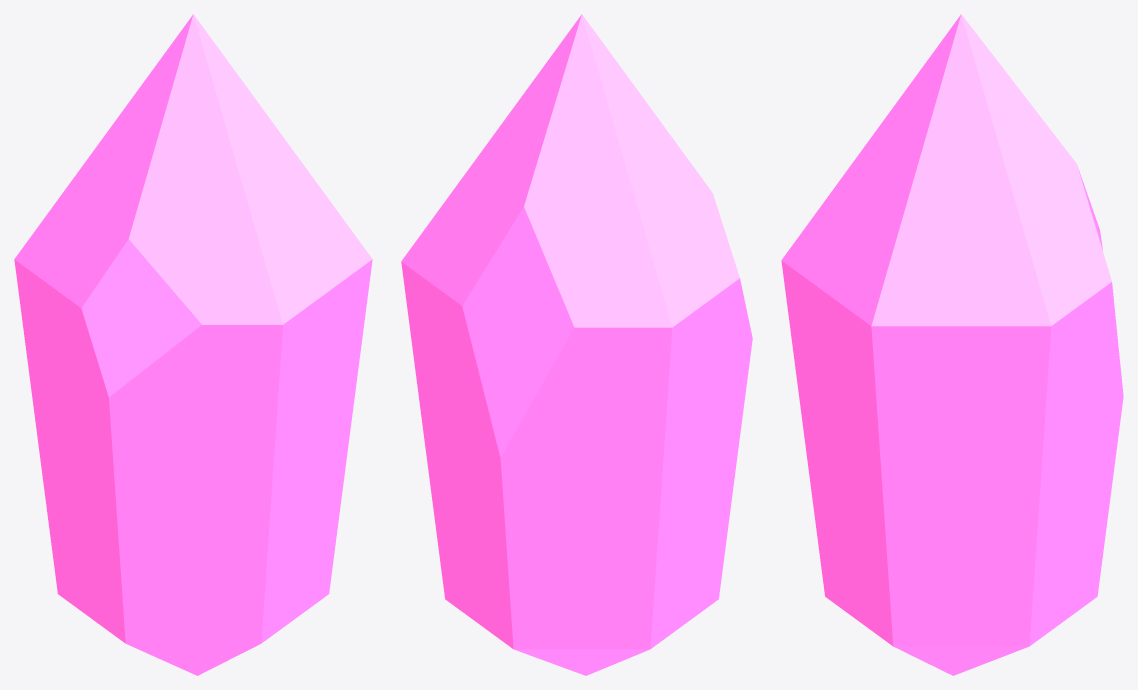
Rendered from crystal3.fbx.
3 renders of one model, left to right at view 1: azimuth 30°, elevation 25°; view 2: azimuth 150°, elevation 25°; view 3: azimuth 270°, elevation 25°, orthographic.
Visible parts, largest first — view 1: crystal3; view 2: crystal3; view 3: crystal3.
Boxes of the visible parts, bbox=[...] form: crystal3: bbox=[14, 14, 372, 675]; crystal3: bbox=[401, 14, 752, 675]; crystal3: bbox=[781, 14, 1123, 675].
Bounding box in the file's own units: 173 × 406 × 190.
